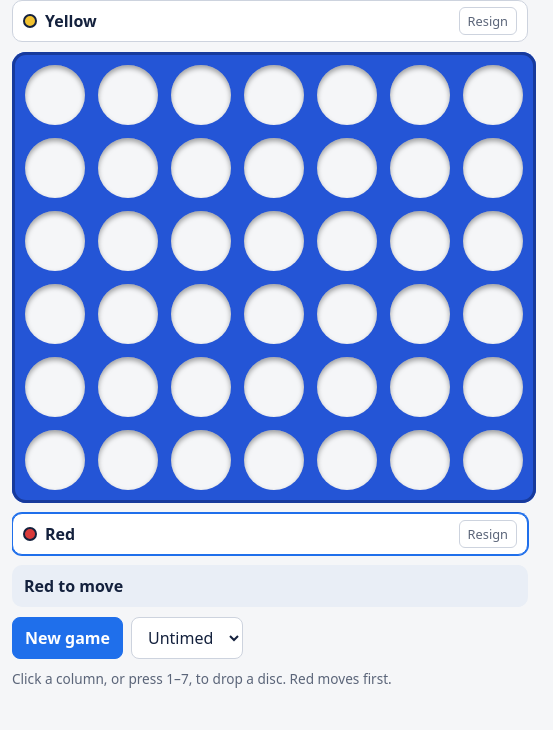
it: ConnectFourGame › shows clocks once a time control is chosen
Select "3 | 2" in the dropdown named "Time control" at (187, 638), box [131,617,243,659]
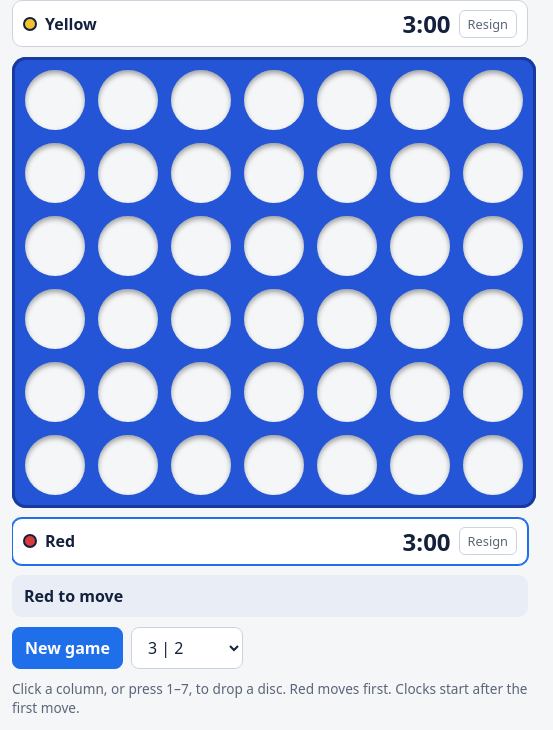
Expected: the number of elements named "time" is 2, [403,7,451,40]; [403,525,451,558]
Expected: the text "3:00" is shown 2 times, [403,7,451,40]; [403,525,451,558]
